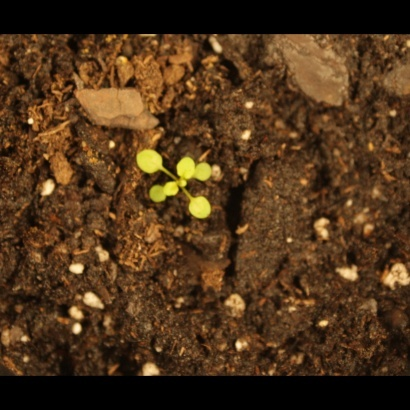leaf: (134, 147, 168, 176), (185, 196, 217, 223), (173, 157, 200, 183), (145, 183, 169, 210), (192, 157, 215, 183), (161, 178, 185, 201)
